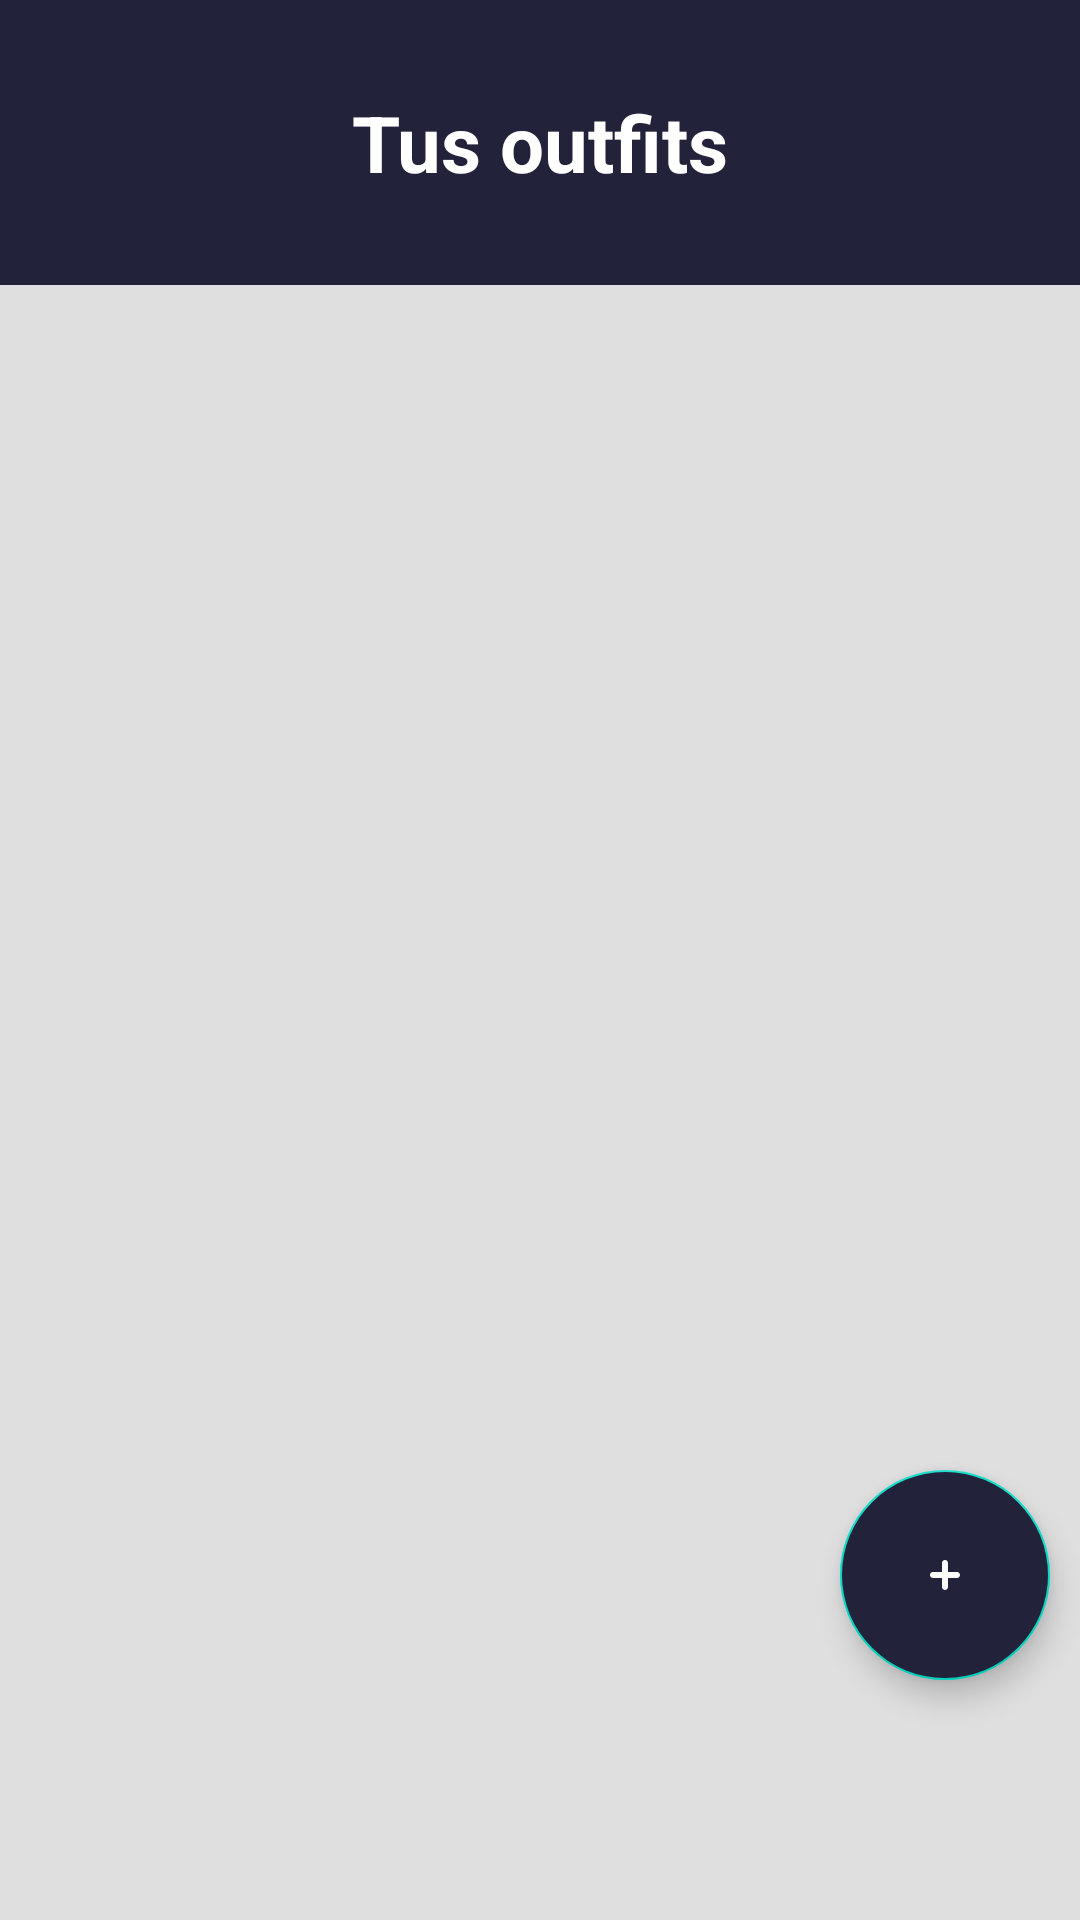

Icons on this 1080 × 1920 Android screen, each with the point to tap as (x,y):
add circle: (945,1575)
